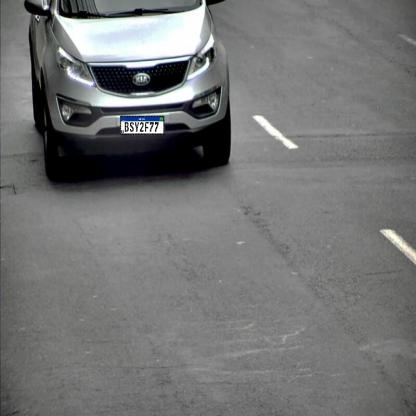PlacaM: (120, 116, 164, 134)
